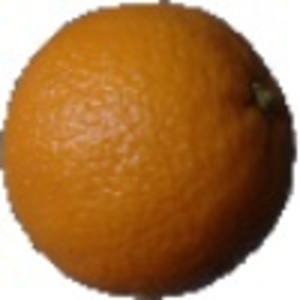laranja: (5, 3, 296, 298)
